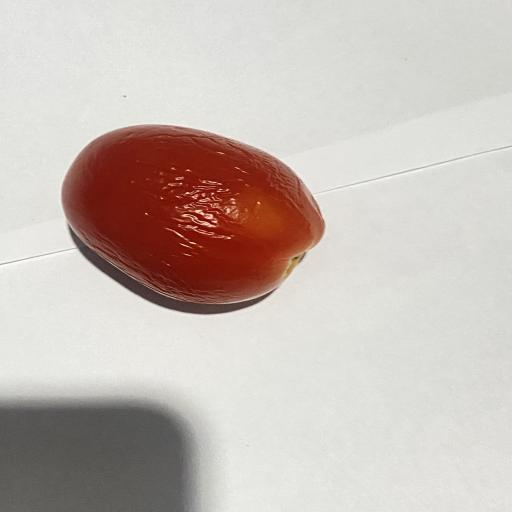spoiled: (62, 125, 324, 304)
